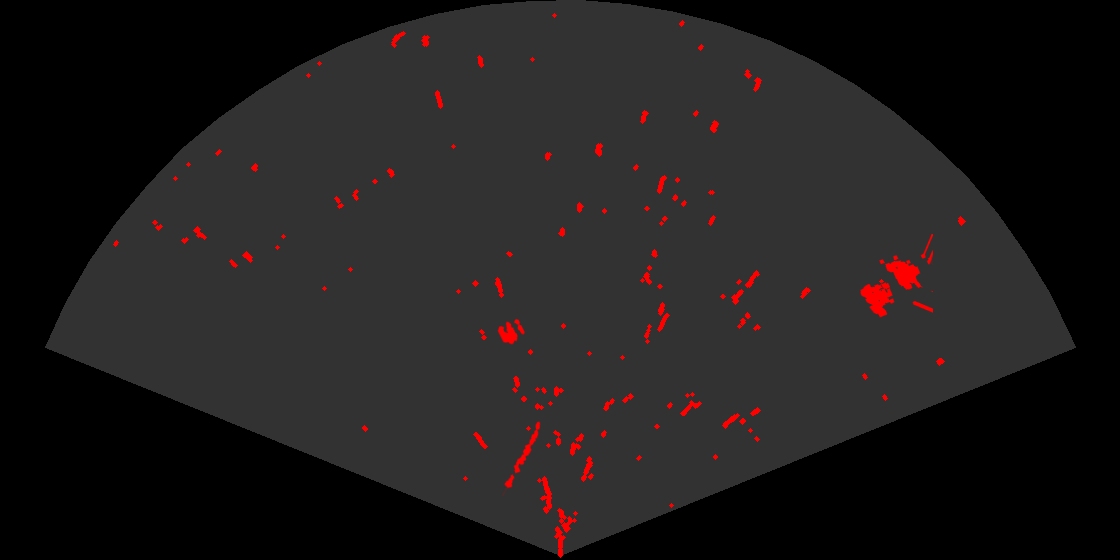ball: (496, 317, 527, 346)
cage: (859, 234, 933, 319)
chain: (500, 420, 542, 496)
